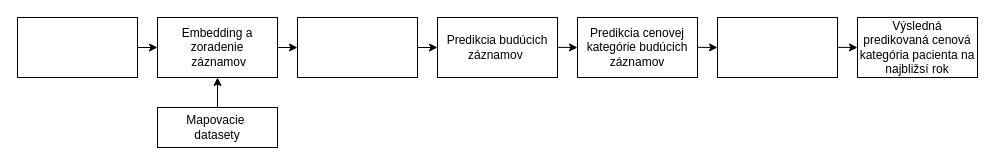
This 995x165 diagram has some shape labels left out. The shapes that lost their labels are listed below. From the top down, each one's centre as x and y in pixels, then its label:
(x=77, y=47): Záznamy pacienta
(x=357, y=47): Určenie počtu záznamov v budúcom roku
(x=777, y=47): Transformácia súčtu cenových kategórii záznamov do cenovej kategórie pacienta
